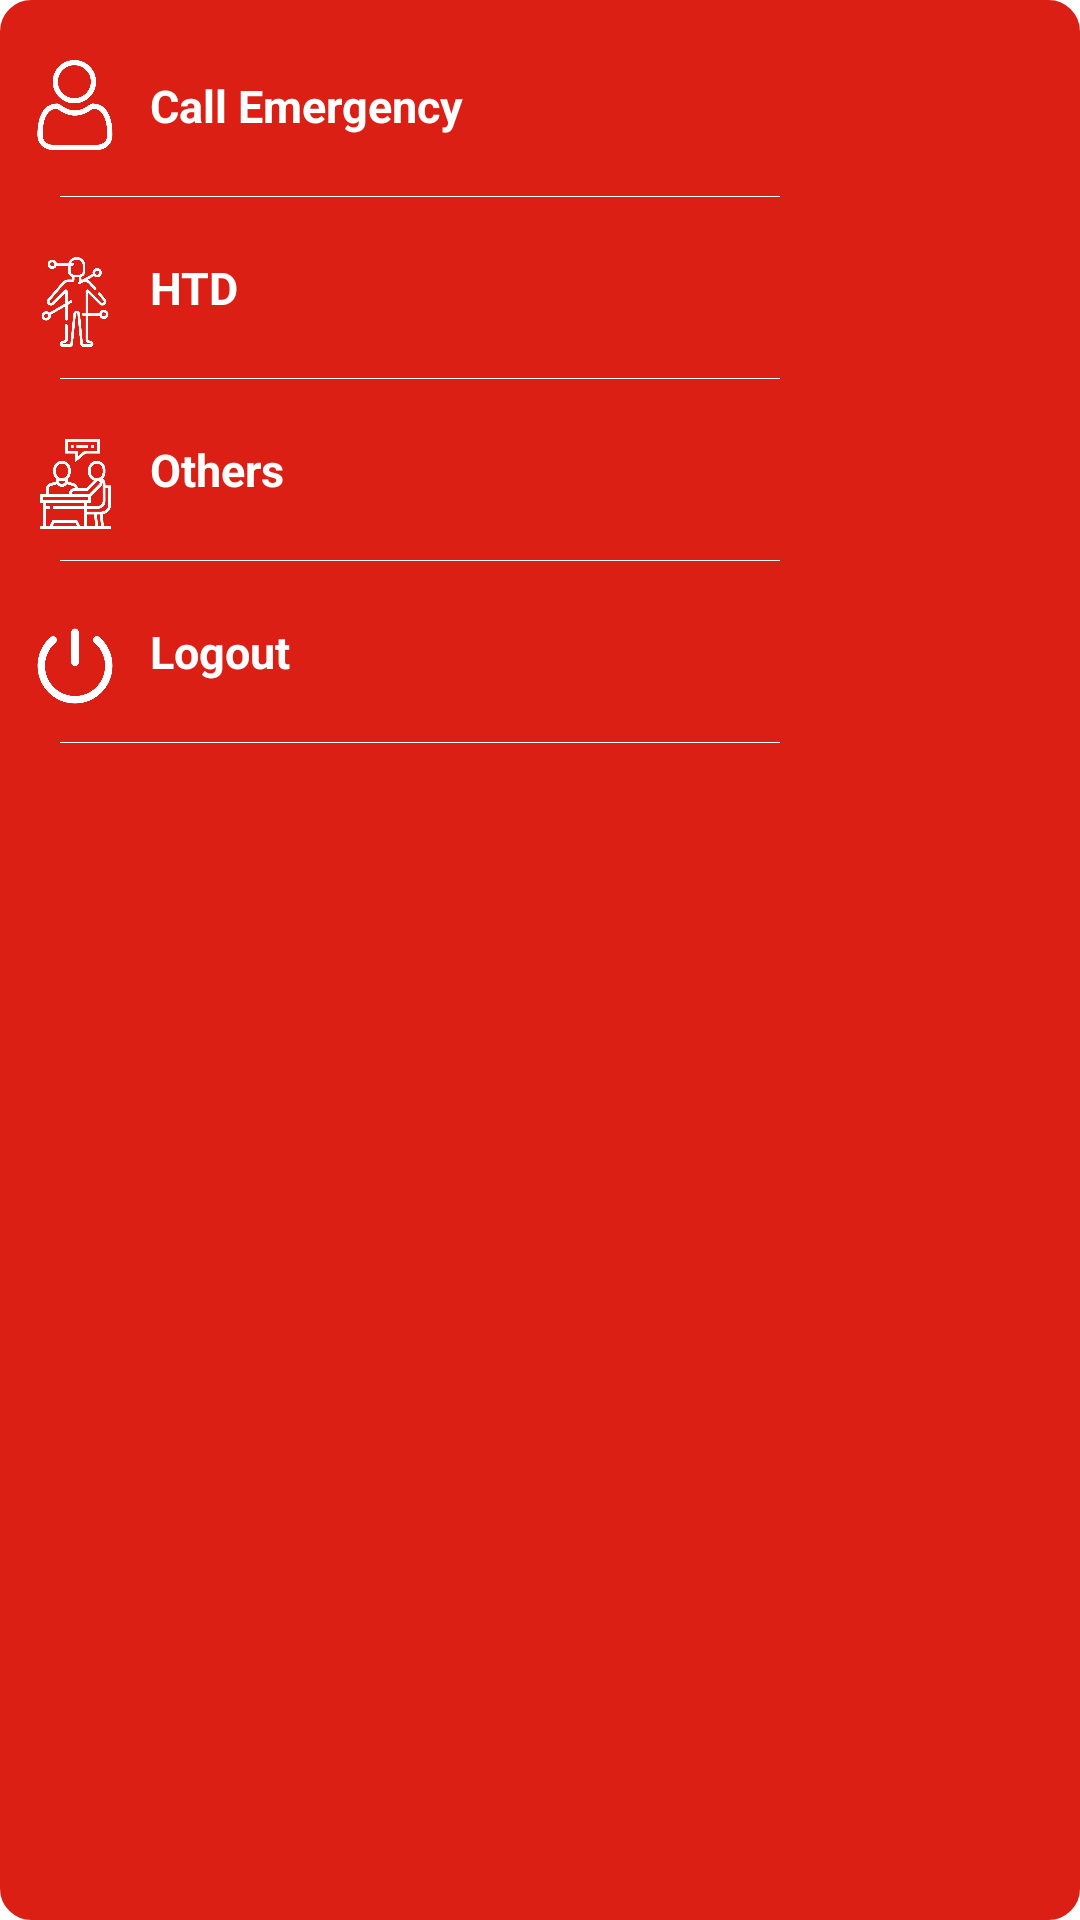

Icon click points for this 1080×1920 phone screenshot, format (x=x, y=y):
consultationwhite: (x=75, y=484)
profilewhite: (x=75, y=105)
